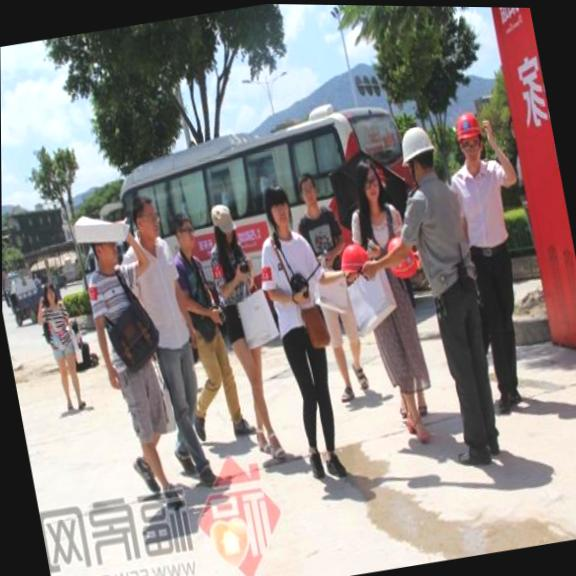no_safety_vest: (397, 164, 477, 291), (253, 226, 331, 338), (120, 232, 188, 356), (82, 261, 151, 381), (445, 152, 516, 257), (346, 196, 414, 294), (294, 201, 353, 292), (203, 232, 259, 320), (172, 249, 216, 330), (38, 300, 74, 348)
